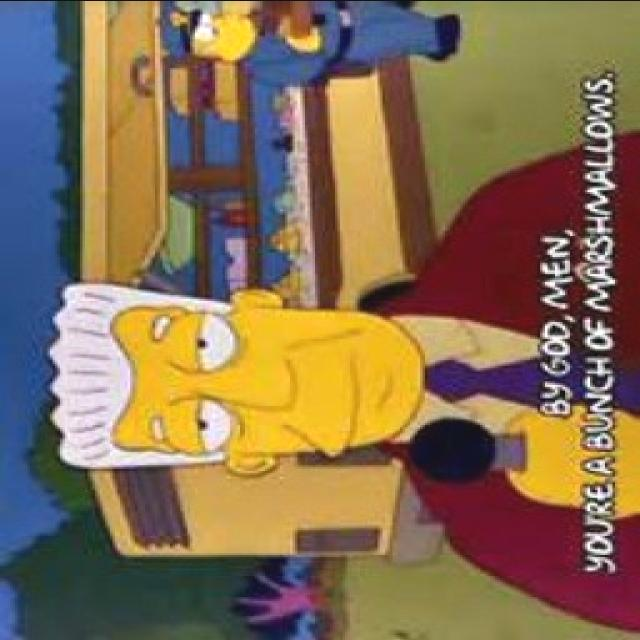Kent Brockman: (41, 280, 429, 480)
